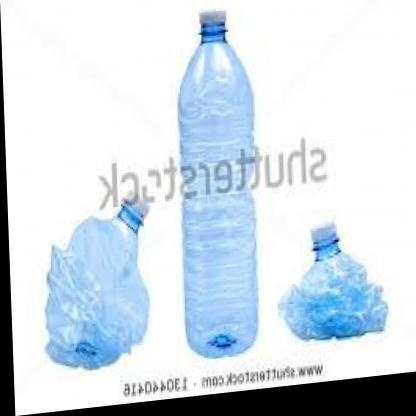trash: (178, 11, 257, 356), (46, 202, 148, 368), (279, 224, 387, 338)
